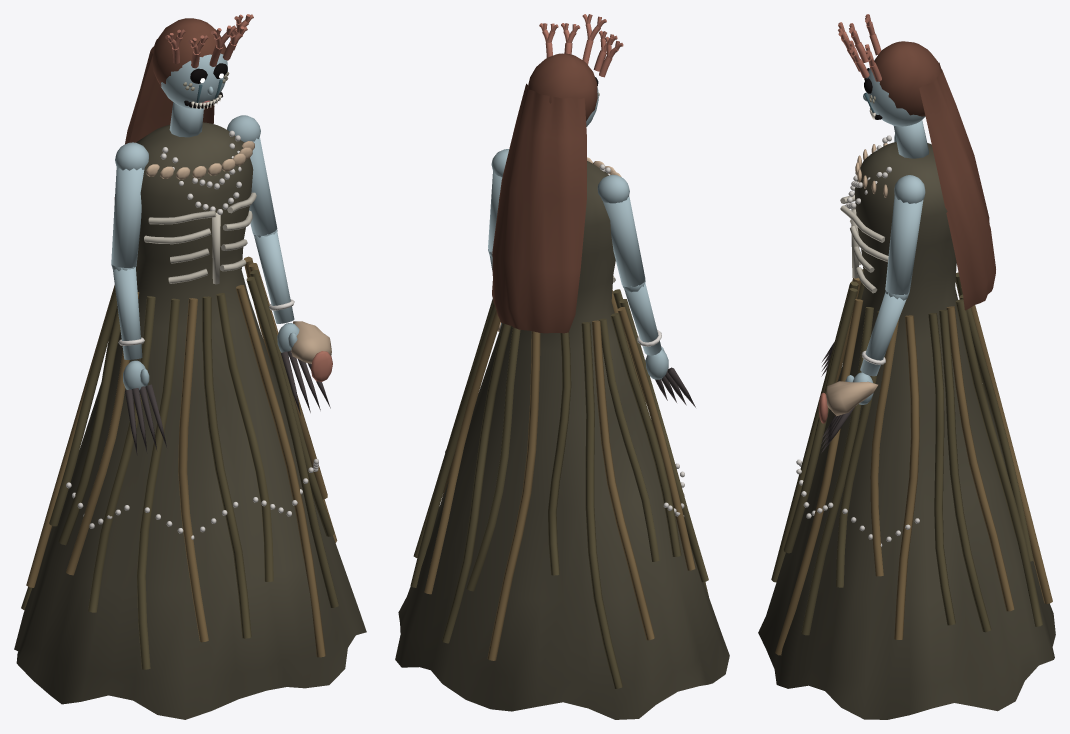
File: tide_siren.glb
3 renders of one model, left to right at view 1: azimuth 30°, elevation 25°; view 2: azimuth 150°, elevation 25°; view 3: azimuth 270°, elevation 25°, orthographic. The views are drawn at different scales.
Parts seen in each view (by area): view 1: Gown, Siren_Root_Kelp, Siren_Root_KelpAmber, ArmA_SirenSkin, ArmB_SirenSkin, Head_CopperHair, Siren_Root_HBone, Head_SirenSkin, Tail_Kelp, Siren_Root_Pearl, Head_Coral, Tail_KelpAmber (+4 smaller); view 2: Gown, Head_CopperHair, Tail_Kelp, Tail_KelpAmber, ArmA_SirenSkin, Siren_Root_Kelp, Siren_Root_KelpAmber, Head_Coral, ArmB_SirenSkin, ArmA_HClaw; view 3: Gown, Head_CopperHair, Tail_Kelp, Siren_Root_KelpAmber, Siren_Root_Kelp, ArmB_SirenSkin, Tail_KelpAmber, Head_SirenSkin, Siren_Root_HBone, Head_Coral, Conch, Siren_Root_Pearl.
Part boxes in pixels (box(x1,y1,x2,y2)): Gown: box(14, 122, 366, 719); Siren_Root_Kelp: box(58, 270, 338, 669); Siren_Root_KelpAmber: box(66, 256, 337, 657); ArmA_SirenSkin: box(111, 142, 149, 390); ArmB_SirenSkin: box(227, 115, 299, 356); Head_CopperHair: box(114, 18, 226, 199); Siren_Root_HBone: box(144, 192, 256, 284); Head_SirenSkin: box(161, 53, 227, 137); Tail_Kelp: box(21, 287, 117, 610); Siren_Root_Pearl: box(66, 130, 318, 539); Head_Coral: box(165, 14, 253, 68); Tail_KelpAmber: box(26, 285, 114, 587); Gown: box(395, 161, 729, 719); Head_CopperHair: box(492, 53, 597, 333); Tail_Kelp: box(410, 298, 659, 688); Tail_KelpAmber: box(424, 310, 654, 660); ArmA_SirenSkin: box(597, 174, 668, 379); Siren_Root_Kelp: box(610, 289, 708, 596); Siren_Root_KelpAmber: box(441, 289, 695, 570); Head_Coral: box(539, 14, 623, 77); ArmB_SirenSkin: box(488, 149, 509, 331); ArmA_HClaw: box(655, 367, 695, 407); Gown: box(758, 142, 1055, 719); Head_CopperHair: box(874, 41, 995, 310); Tail_Kelp: box(928, 272, 1042, 632); Siren_Root_KelpAmber: box(775, 278, 919, 655); Siren_Root_Kelp: box(771, 269, 878, 635); ArmB_SirenSkin: box(845, 175, 925, 404); Tail_KelpAmber: box(946, 287, 1052, 611); Head_SirenSkin: box(863, 68, 928, 158); Siren_Root_HBone: box(840, 195, 888, 293); Head_Coral: box(838, 14, 881, 81); Conch: box(826, 381, 877, 416); Siren_Root_Pearl: box(796, 135, 919, 546).
Size of the model in its own units: 0.8572 by 1.68 by 0.7245.
